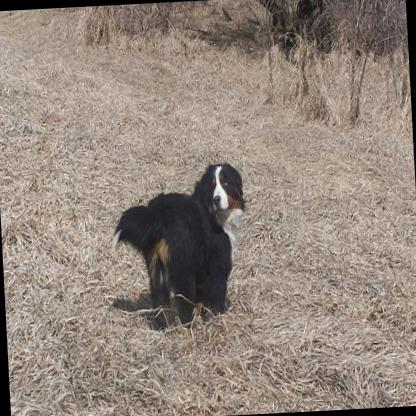Bernese_mountain_dog: (108, 158, 252, 325)
